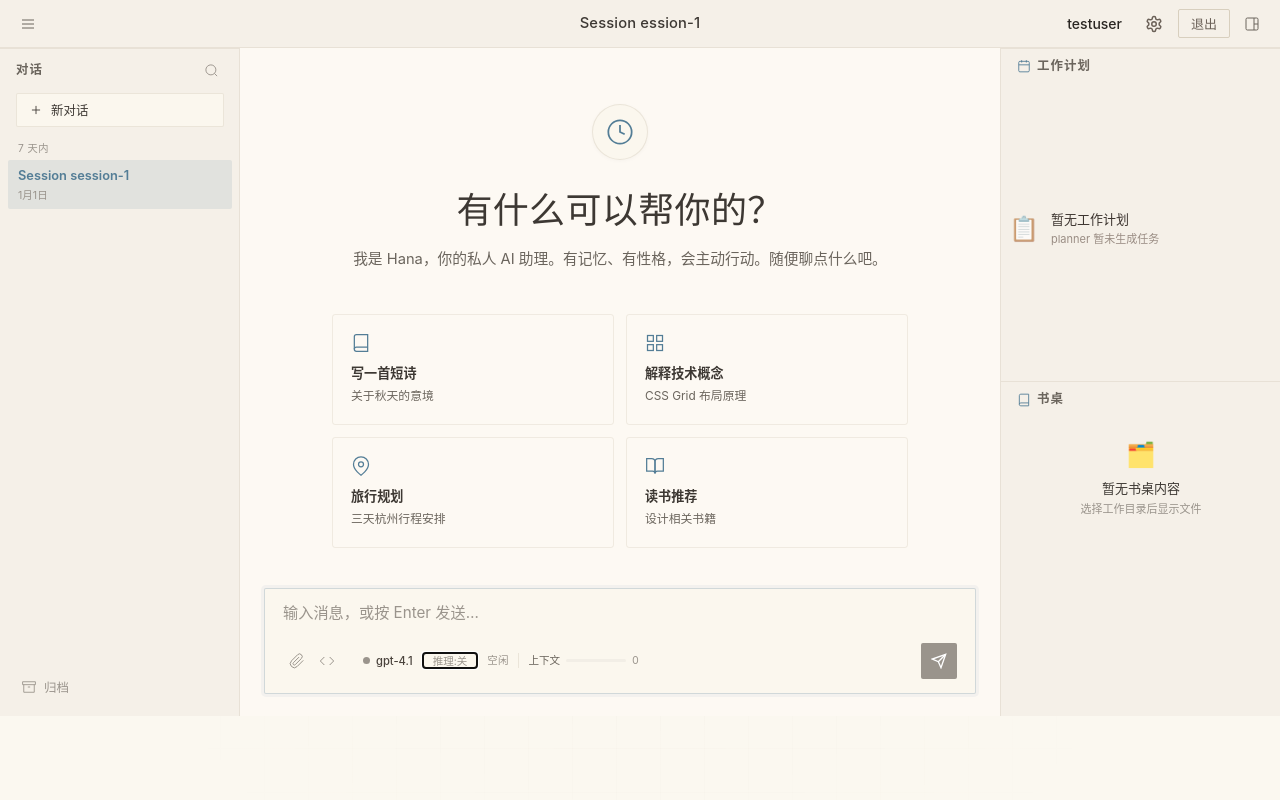
ChatPage › opens the model selector and lists available providers
This screenshot has width=1280, height=800.
What coordinates should you click on to do the following:
click the button with test id "chat-model-selector-trigger"
I would click on:
 (388, 661)
Its box is [353,654,423,668].
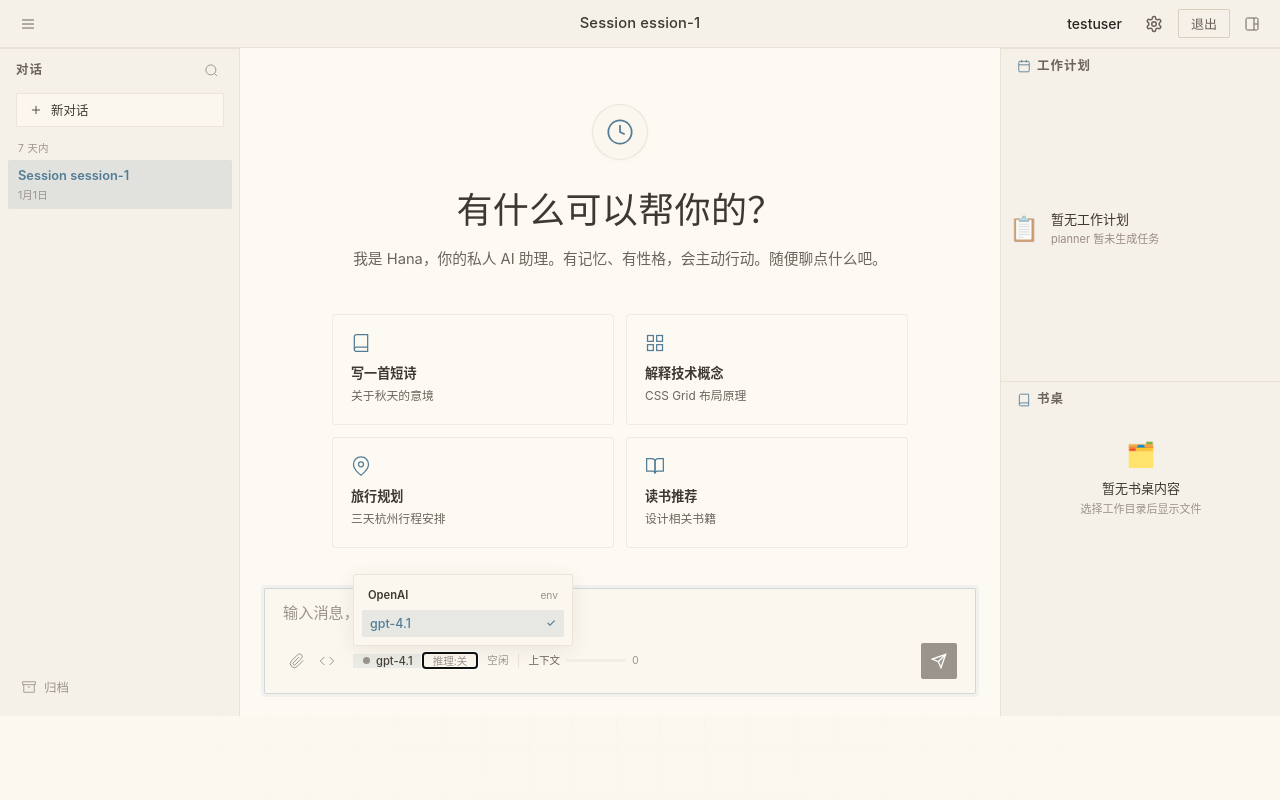
Expected: the element with test id "chat-model-provider-openai" is shown, [362,583,564,637]
Expected: the option with test id "chat-model-option-openai-0" shows "gpt-4.1", [362,610,564,637]
